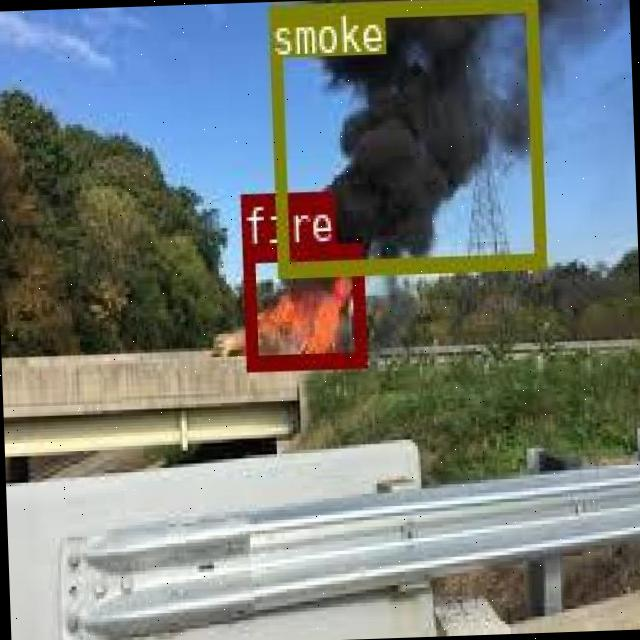fire: (240, 240, 362, 366)
smoke: (266, 0, 542, 273)
